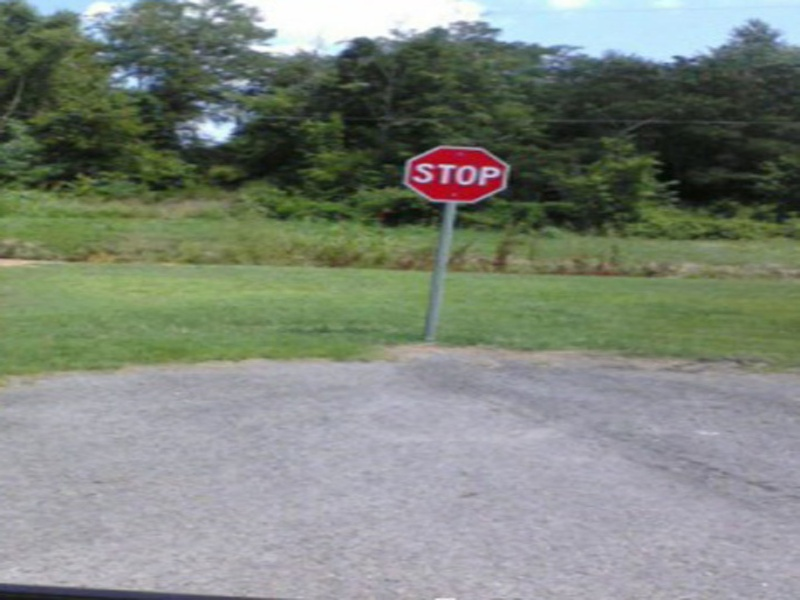stop: (401, 145, 511, 205)
